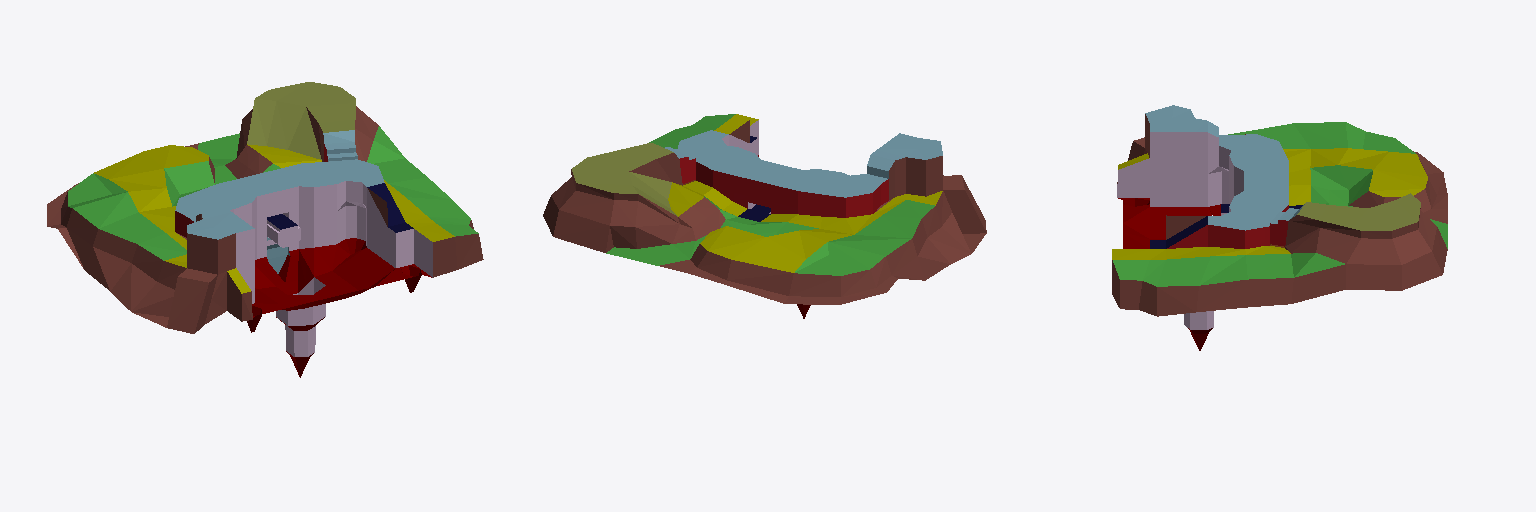
The model's file is mmap.obj.
The picture shows the model from 3 angles: view 1: azimuth 30°, elevation 25°; view 2: azimuth 150°, elevation 25°; view 3: azimuth 270°, elevation 25°; orthographic projection.
Visible parts, largest first — view 1: Cube.001_Cube.000; view 2: Cube.001_Cube.000; view 3: Cube.001_Cube.000.
Part boxes in pixels (x1,y1,x2,y2): Cube.001_Cube.000: (47,82,483,377); Cube.001_Cube.000: (543,114,986,318); Cube.001_Cube.000: (1112,105,1447,350).
Size of the model in its own units: 1242 by 679 by 1098.